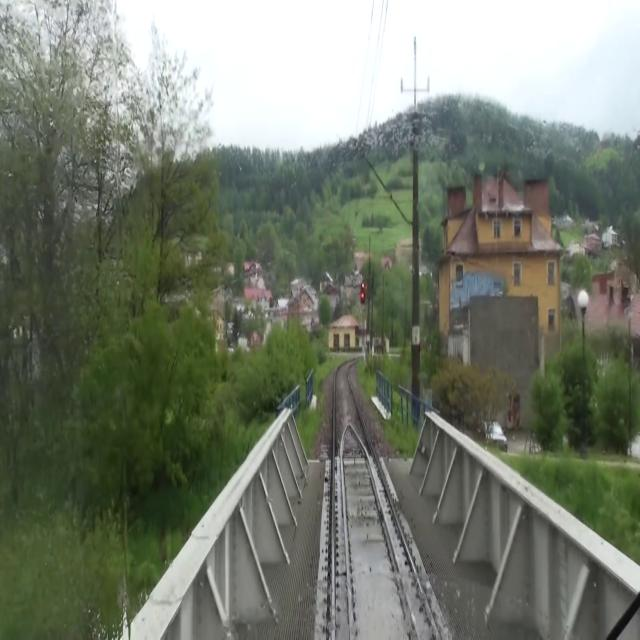rail-track: (336, 363, 435, 639), (344, 427, 414, 639)
